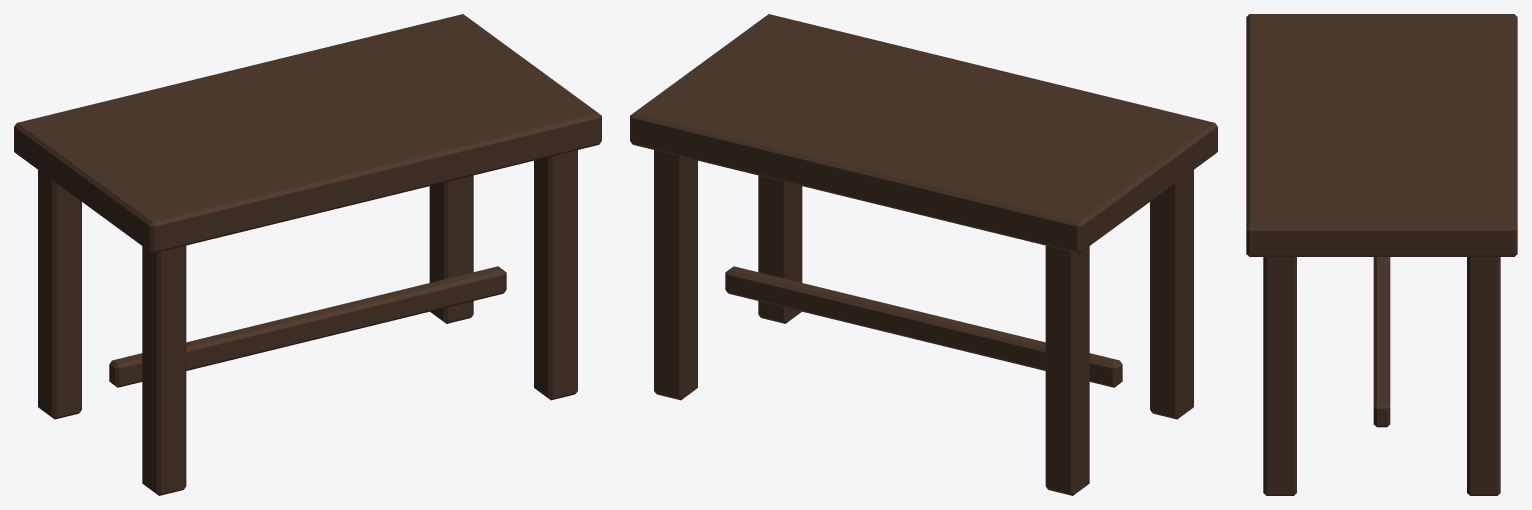
File: table.fbx
The picture shows the model from 3 angles, left to right: view 1: azimuth 30°, elevation 25°; view 2: azimuth 150°, elevation 25°; view 3: azimuth 270°, elevation 25°; orthographic projection. The views are drawn at different scales.
Parts seen in each view (by area): view 1: table; view 2: table; view 3: table.
Part boxes in pixels (bbox=[...]): table: bbox=[14, 14, 601, 495]; table: bbox=[630, 14, 1217, 495]; table: bbox=[1246, 14, 1517, 495].
Size of the model in its own units: 600 by 360 by 320.
